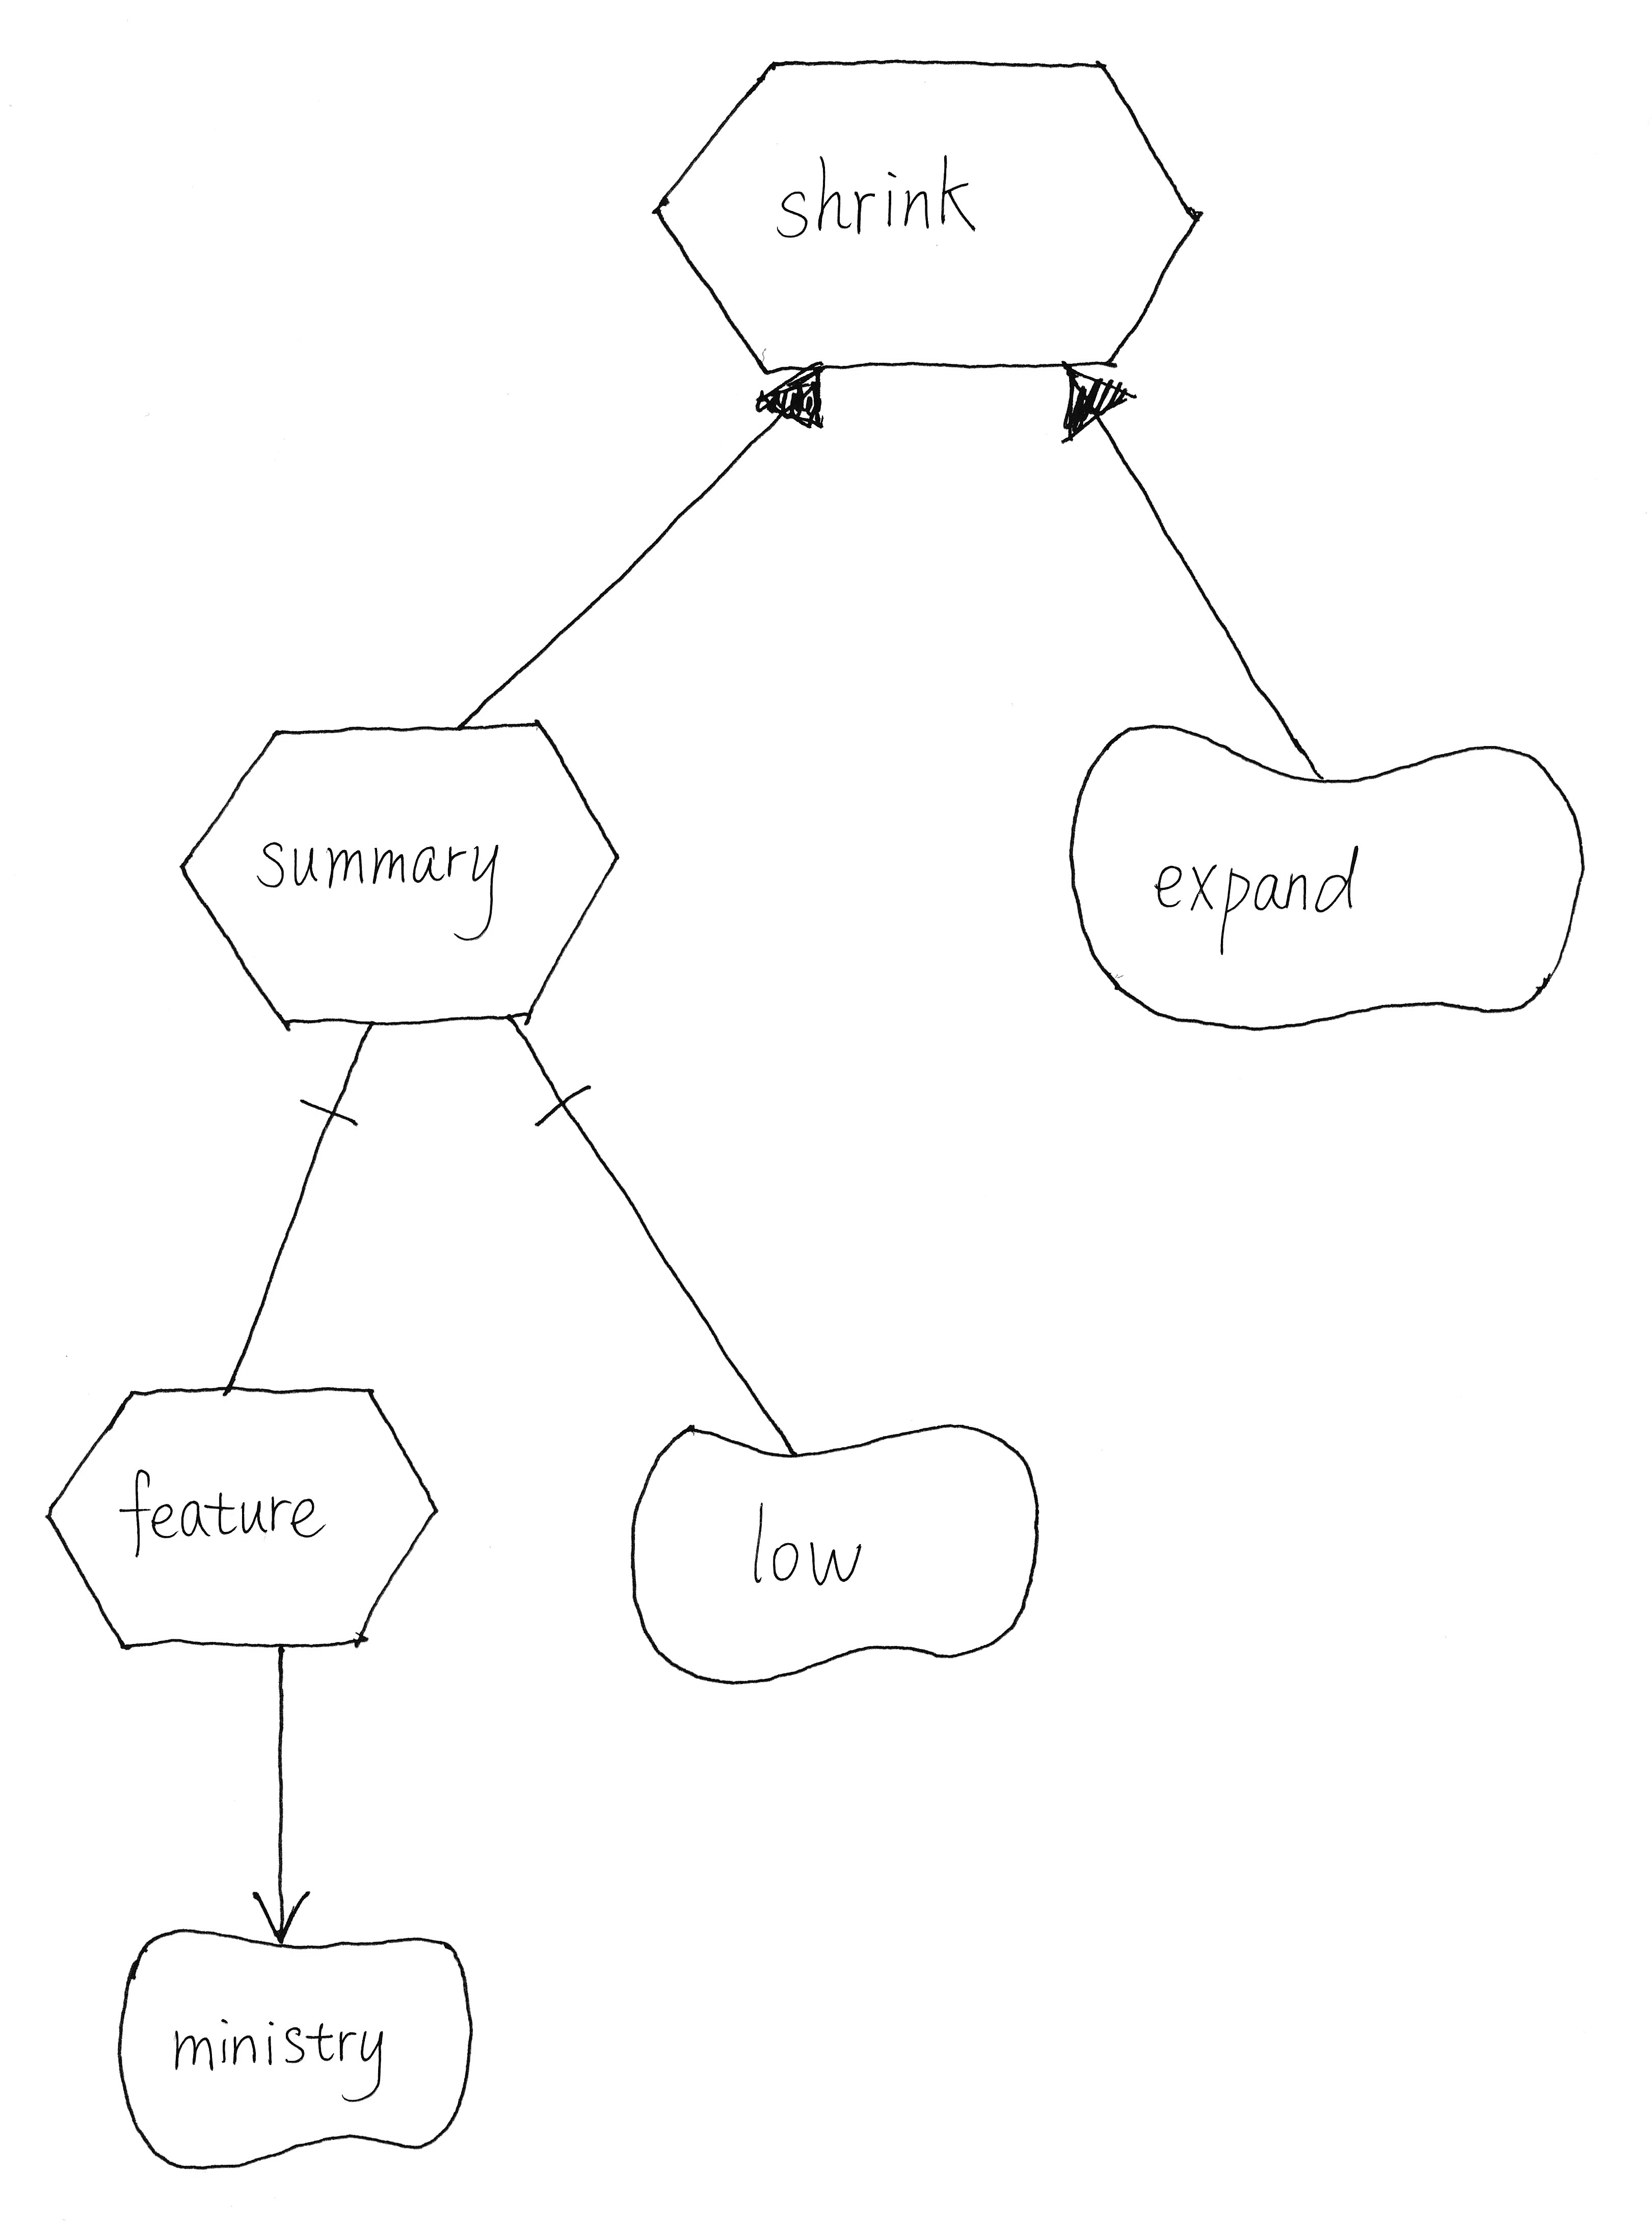and: (493, 989, 616, 1152), (286, 1006, 397, 1149)
arrow: (233, 1865, 324, 1959)
or: (1031, 345, 1163, 458), (734, 338, 840, 446)
quality: (1043, 696, 1605, 1050), (609, 1397, 1062, 1706), (92, 1896, 500, 2181)
task: (630, 31, 1225, 411), (160, 701, 637, 1050), (28, 1353, 463, 1693)
